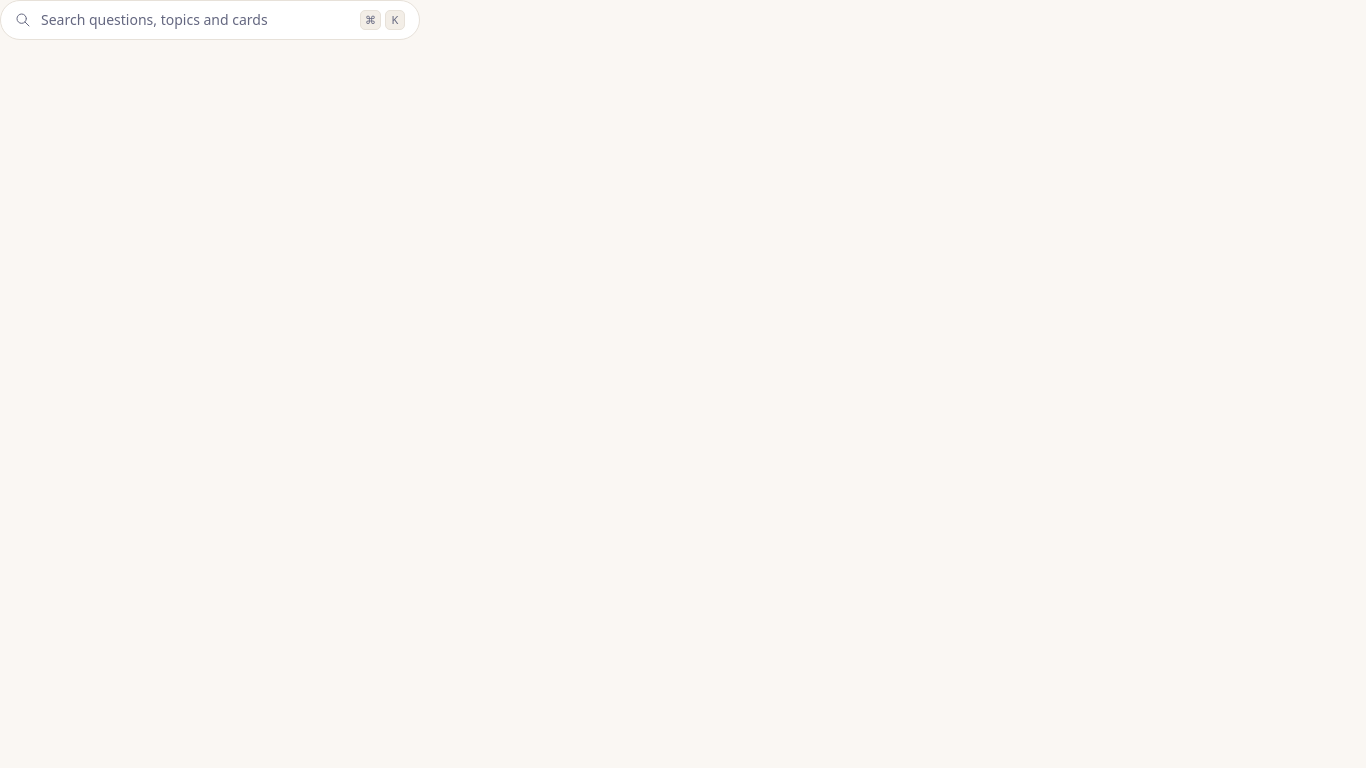
Scenario: opens search with metaKey, filters and navigates using the keyboard
The image size is (1366, 768).
Press k
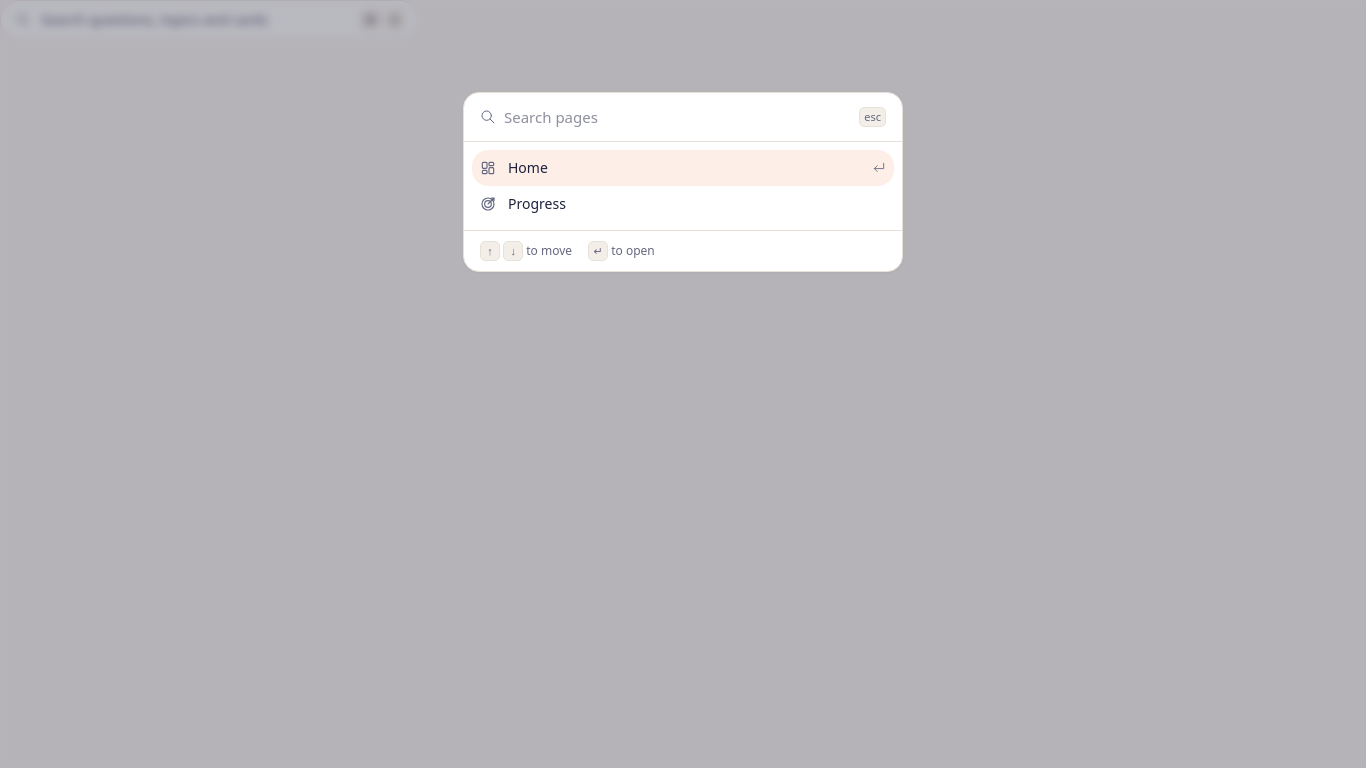
In the dropdown: [678, 117] box [504,93,851,141], type "progress"
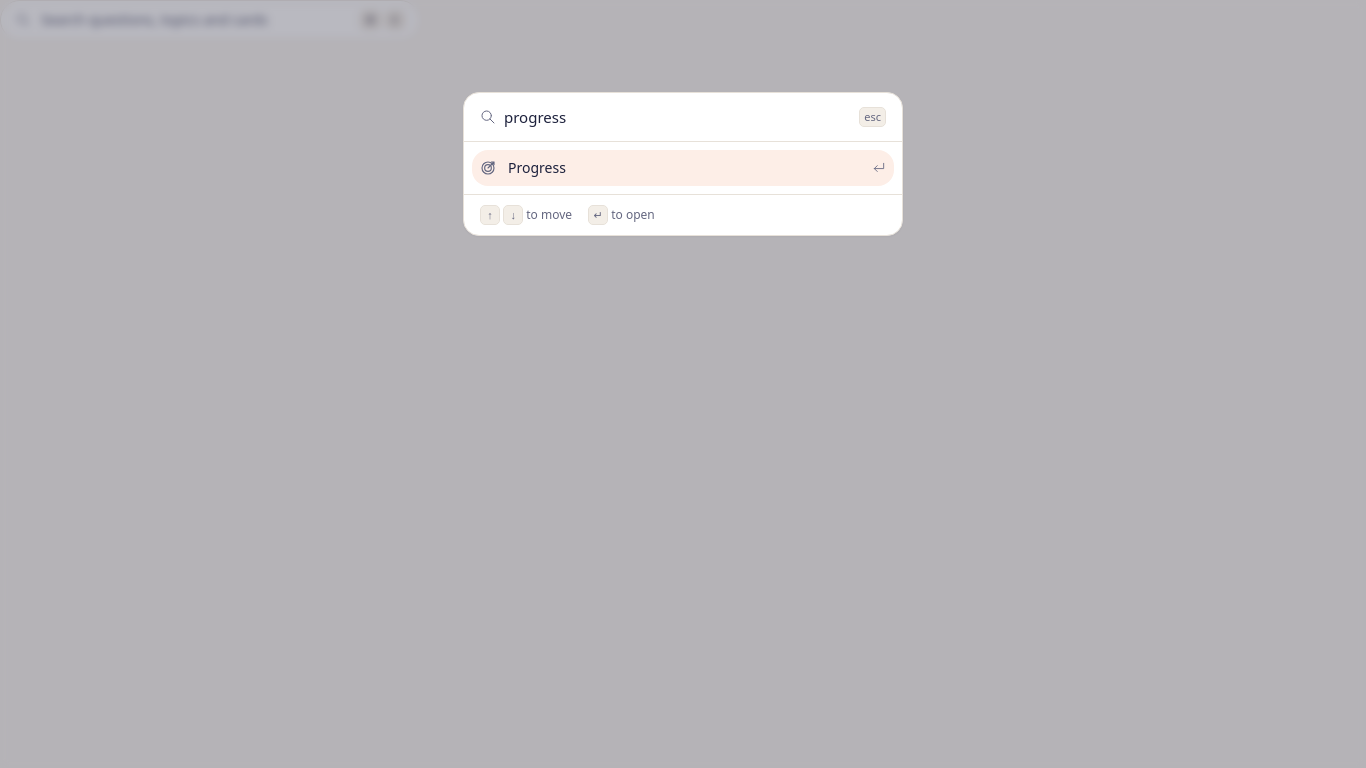
Result: the number of options is 1 at [472,150,894,186]
Press ArrowDown in the dropdown, box [504,93,851,141]
Press Enter in the dropdown, box [504,93,851,141]
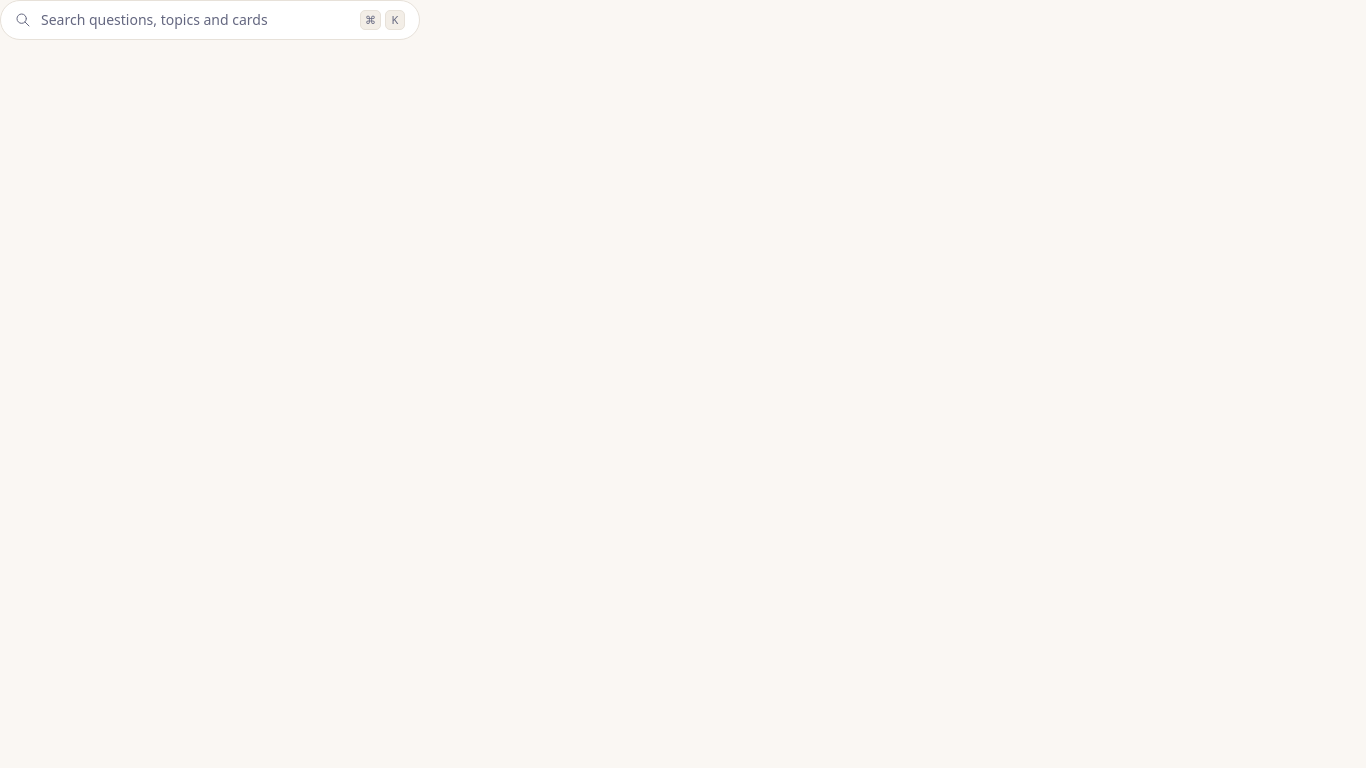
Result: the dialog is gone
